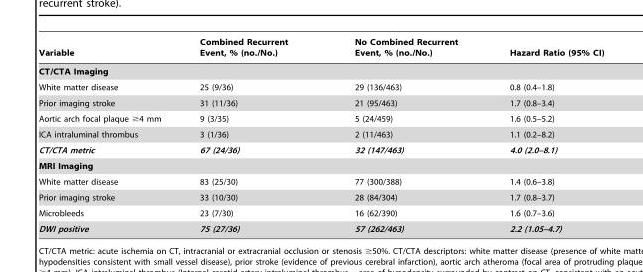table: (37, 37, 603, 233)
table column: (320, 37, 482, 233), (37, 37, 179, 233), (179, 37, 320, 233), (482, 37, 603, 233)
table column header: (37, 37, 603, 61)
table projected row header: (37, 61, 603, 79), (37, 157, 603, 173)
table row: (37, 37, 603, 61), (37, 61, 603, 79), (37, 94, 603, 110), (37, 110, 603, 126), (37, 126, 603, 142), (37, 157, 603, 173), (37, 173, 603, 189), (37, 189, 603, 205), (37, 79, 603, 94), (37, 142, 603, 157), (37, 205, 603, 220), (37, 220, 603, 233)
